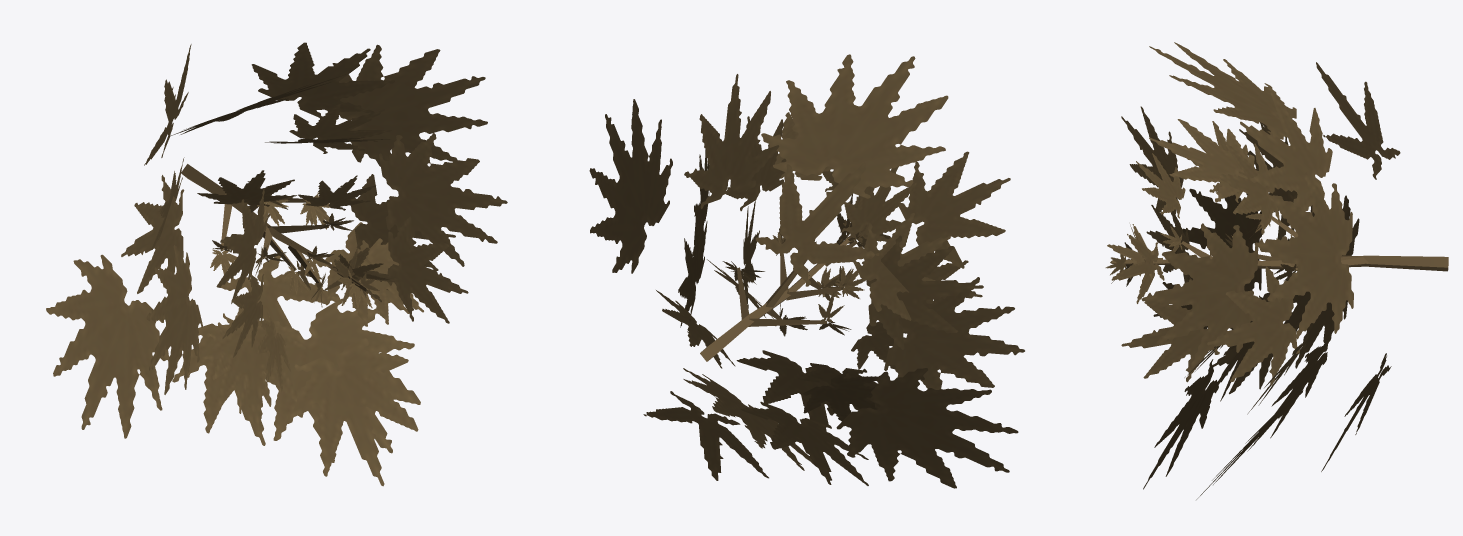
The model's file is p_haze_vegetative_c3_cards.obj.
The picture shows the model from 3 angles, left to right: view 1: azimuth 30°, elevation 25°; view 2: azimuth 150°, elevation 25°; view 3: azimuth 270°, elevation 25°; orthographic projection. The views are drawn at different scales.
Bounding box in the file's own units: 1.48 × 1.3 × 0.888.
1 material, 1 textured.
